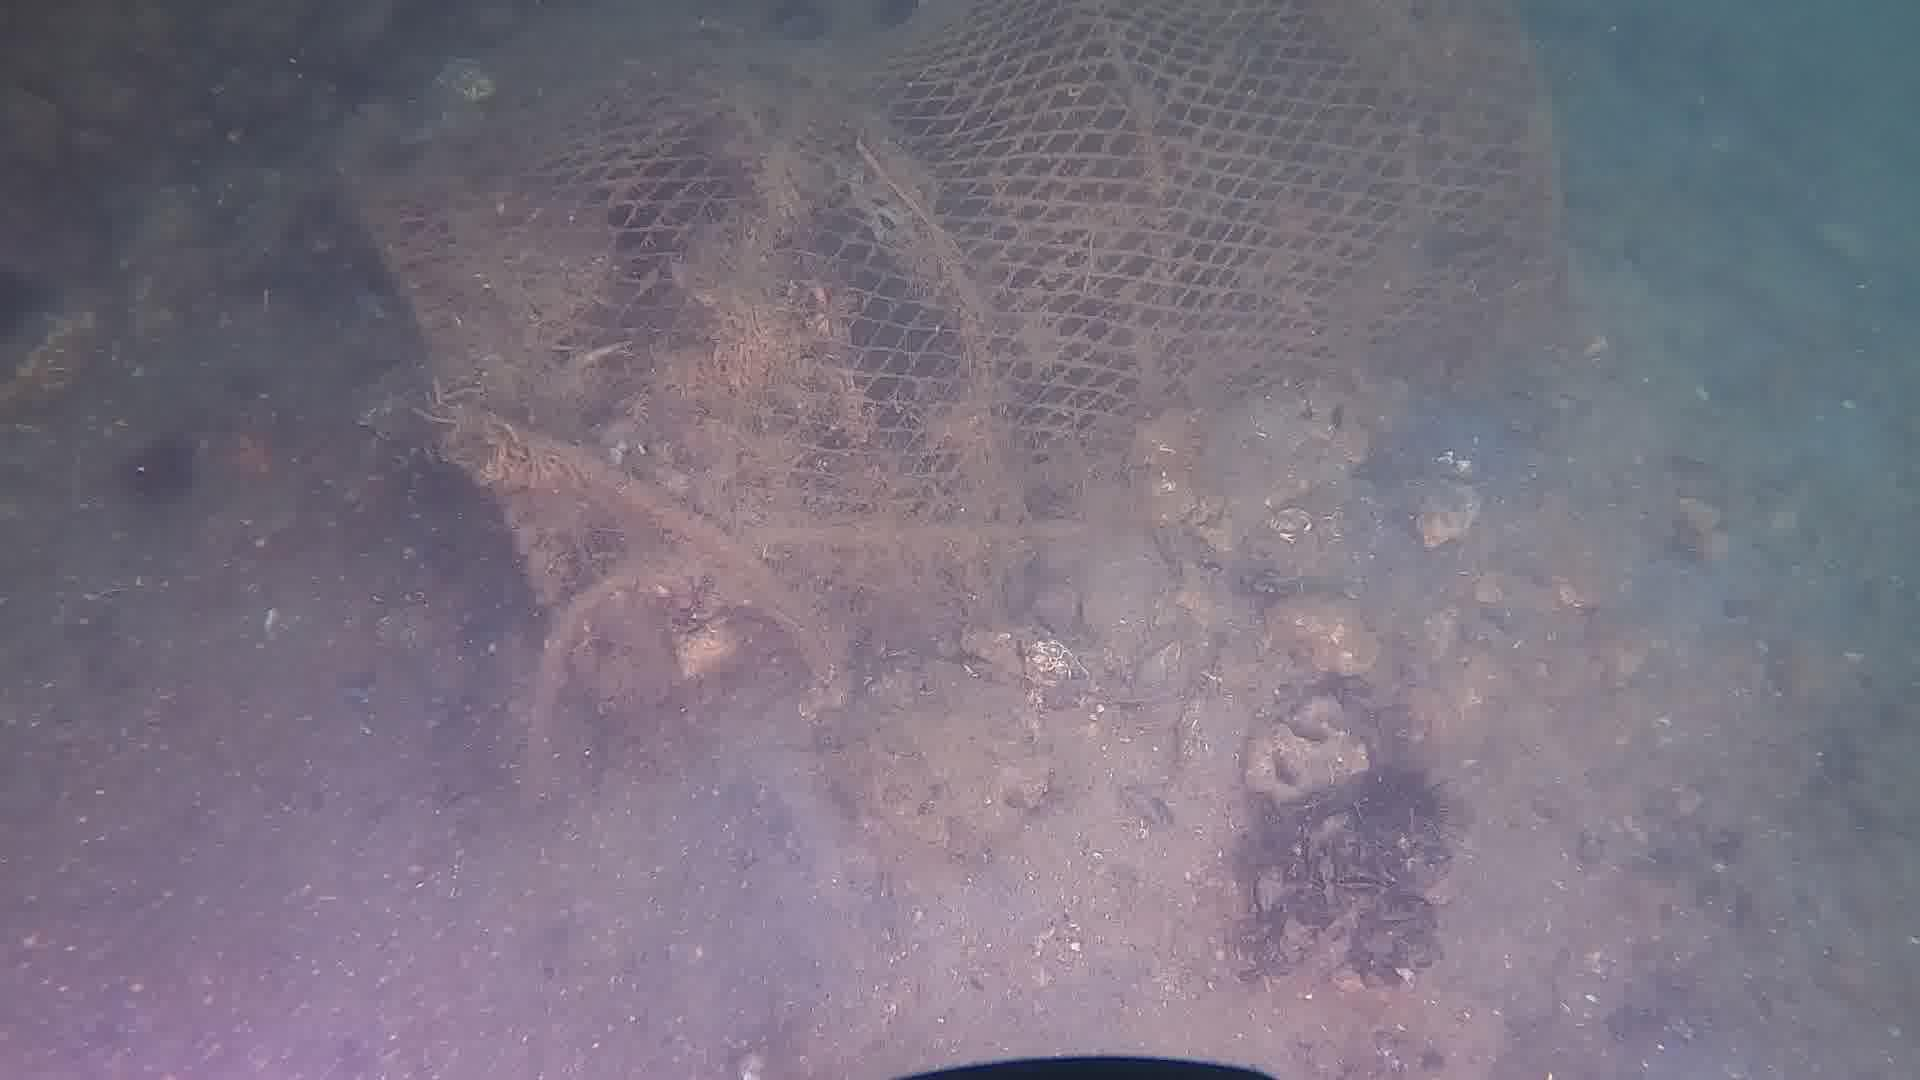spring fish trap: (331, 3, 1564, 713)
